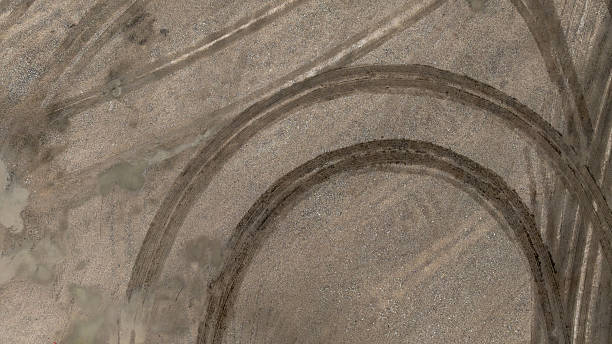vehicle_track: (127, 65, 611, 297), (197, 139, 569, 343)
